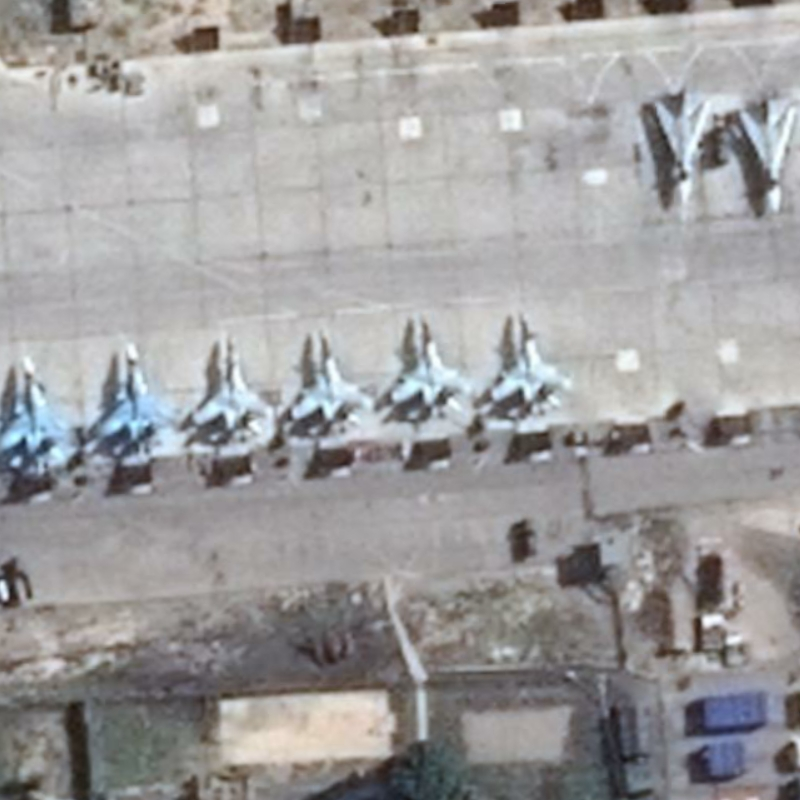A1: (286, 325, 378, 438), (488, 309, 577, 421), (187, 332, 274, 446), (388, 312, 475, 423)
A19: (91, 340, 185, 464), (1, 354, 83, 478)
A20: (649, 89, 712, 208), (735, 97, 796, 217)
